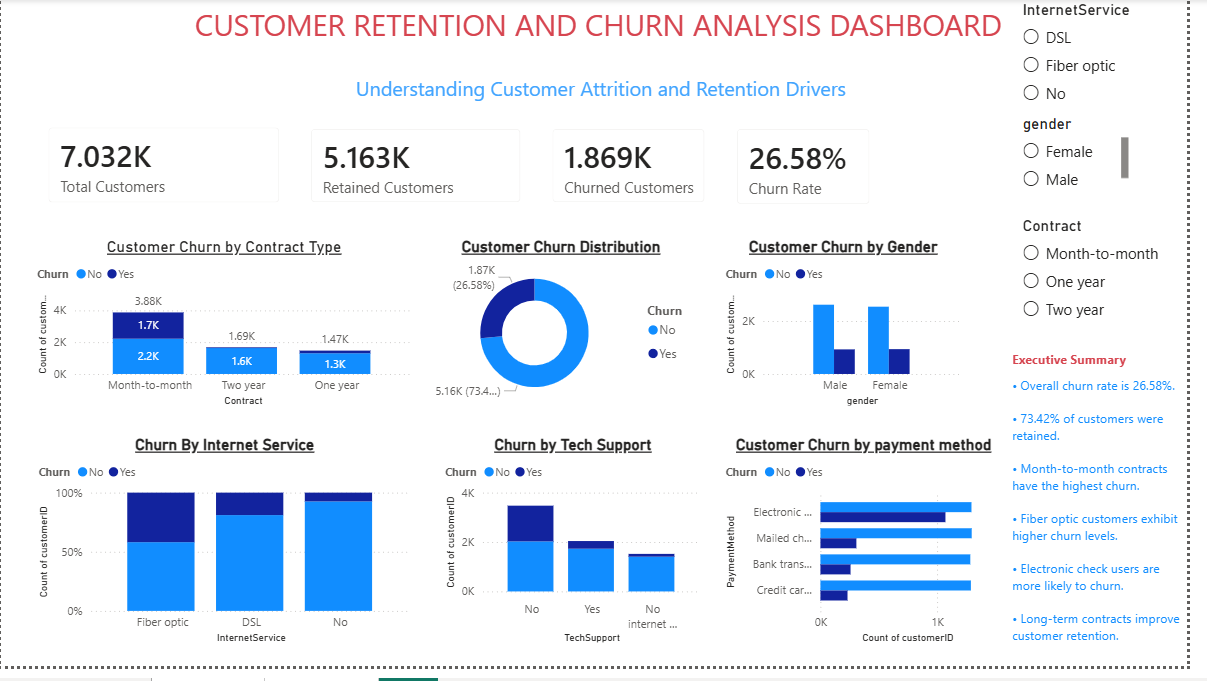

The dashboard page shown, as its layout file describes it:
{"tool":"powerbi","page":{"name":"Page 1","canvas":[1280,720],"ordinal":0},"visuals":[{"type":"textbox","box":[9.4,0,1269.9,75.6],"z":0},{"type":"textbox","box":[9.4,75.6,1269.9,47.2],"z":1000},{"type":"columnChart","title":"Customer Churn by Contract Type","fields":{"Category":["clean_churn_data.Contract"],"Y":["Count(clean_churn_data.customerID)"],"Series":["clean_churn_data.Churn"]},"box":[34,258,414,186],"z":2000},{"type":"cardVisual","fields":{"Data":["clean_churn_data.Churn Rate"]},"box":[777.5,122.5,177.5,115],"z":3000},{"type":"cardVisual","fields":{"Data":["clean_churn_data.Churned Customers"]},"box":[578.3,123.3,198.3,113.3],"z":4000},{"type":"cardVisual","fields":{"Data":["clean_churn_data.Retained Customers"]},"box":[316.7,123.5,260.9,113.5],"z":5000},{"type":"hundredPercentStackedColumnChart","title":"Churn By Internet Service","fields":{"Category":["clean_churn_data.InternetService"],"Series":["clean_churn_data.Churn"],"Y":["Count(clean_churn_data.customerID)"]},"box":[36,472,412,228],"z":6000},{"type":"clusteredBarChart","title":"Customer Churn by payment method","fields":{"Category":["clean_churn_data.PaymentMethod"],"Y":["Count(clean_churn_data.customerID)"],"Series":["clean_churn_data.Churn"]},"box":[778,472,308,228],"z":7000},{"type":"listSlicer","fields":{"Values":["clean_churn_data.gender"]},"box":[1098,124,124,86],"z":8000},{"type":"listSlicer","fields":{"Values":["clean_churn_data.Contract"]},"box":[1098,234,182,126],"z":9000},{"type":"textbox","box":[1086,402,194,298],"z":10000},{"type":"textbox","box":[1086,374,158,28],"z":11000},{"type":"listSlicer","fields":{"Values":["clean_churn_data.InternetService"]},"box":[1098,2,154,122],"z":12000},{"type":"donutChart","title":"Customer Churn Distribution","fields":{"Category":["clean_churn_data.Churn"],"Y":["CountNonNull(clean_churn_data.customerID)"]},"box":[448,258,312,186],"z":13000},{"type":"cardVisual","fields":{"Data":["clean_churn_data.Total Customers"]},"box":[33.3,121.7,283.3,115],"z":14000},{"type":"clusteredColumnChart","title":"Customer Churn by Gender","fields":{"Category":["clean_churn_data.gender"],"Y":["CountNonNull(clean_churn_data.customerID)"],"Series":["clean_churn_data.Churn"]},"box":[778,258,264,186],"z":15000},{"type":"columnChart","title":"Churn by Tech Support","fields":{"Category":["clean_churn_data.TechSupport"],"Y":["Count(clean_churn_data.customerID)"],"Series":["clean_churn_data.Churn"]},"box":[474,472,286,228],"z":16000}]}

Visuals, with their boxes in screenshot pixels (x1, y1, x2, y2), scaled from the page's 1280x720 canvas onto the 1207x681 screenshot:
textbox: box=[9, 0, 1206, 72]
textbox: box=[9, 72, 1206, 116]
"Customer Churn by Contract Type" columnChart: box=[32, 244, 422, 420]
cardVisual - clean_churn_data.Churn Rate: box=[733, 116, 901, 225]
cardVisual - clean_churn_data.Churned Customers: box=[545, 117, 732, 224]
cardVisual - clean_churn_data.Retained Customers: box=[299, 117, 545, 224]
"Churn By Internet Service" hundredPercentStackedColumnChart: box=[34, 446, 422, 662]
"Customer Churn by payment method" clusteredBarChart: box=[734, 446, 1024, 662]
listSlicer - clean_churn_data.gender: box=[1035, 117, 1152, 199]
listSlicer - clean_churn_data.Contract: box=[1035, 221, 1206, 340]
textbox: box=[1024, 380, 1206, 662]
textbox: box=[1024, 354, 1173, 380]
listSlicer - clean_churn_data.InternetService: box=[1035, 2, 1181, 117]
"Customer Churn Distribution" donutChart: box=[422, 244, 717, 420]
cardVisual - clean_churn_data.Total Customers: box=[31, 115, 299, 224]
"Customer Churn by Gender" clusteredColumnChart: box=[734, 244, 983, 420]
"Churn by Tech Support" columnChart: box=[447, 446, 717, 662]
